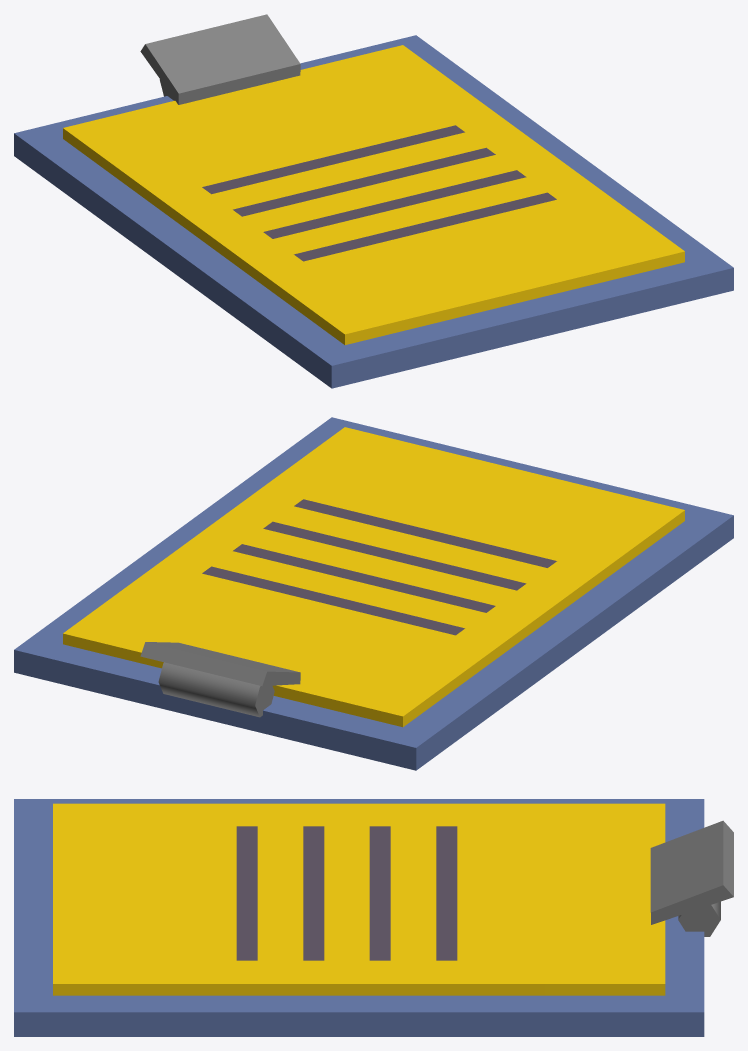
Rendered from clipboard.fbx.
3 renders of one model, top to bottom at view 1: azimuth 30°, elevation 25°; view 2: azimuth 150°, elevation 25°; view 3: azimuth 270°, elevation 25°, orthographic. The views are drawn at different scales.
Visible parts, largest first — view 1: clipboard; view 2: clipboard; view 3: clipboard.
Part boxes in pixels (x1,y1,x2,y2): clipboard: [14, 14, 733, 388]; clipboard: [14, 417, 733, 770]; clipboard: [14, 799, 733, 1036].
Size of the model in its own units: 18.97 by 3.22 by 27.09.
